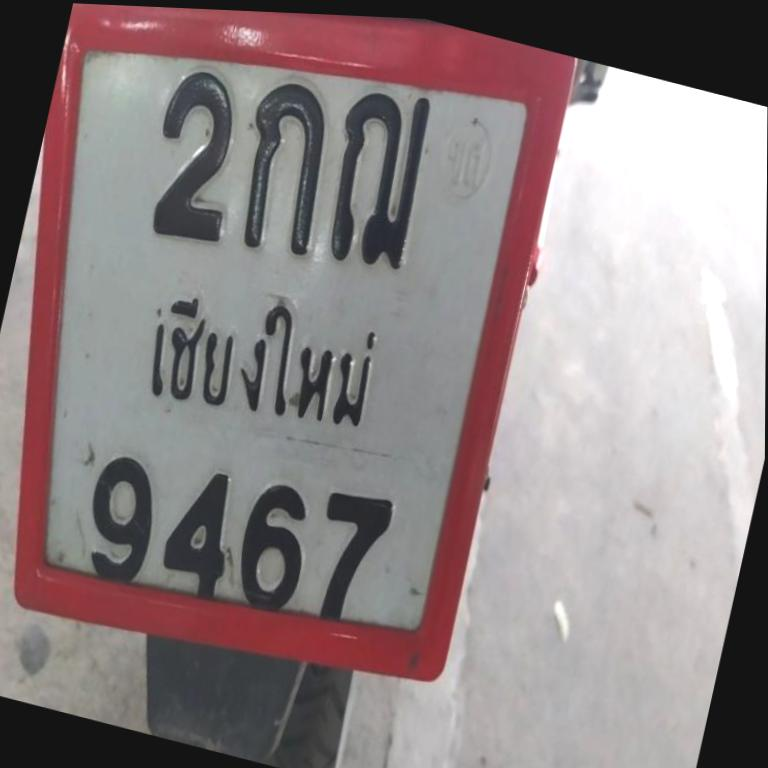license plate: (0, 0, 595, 725)
